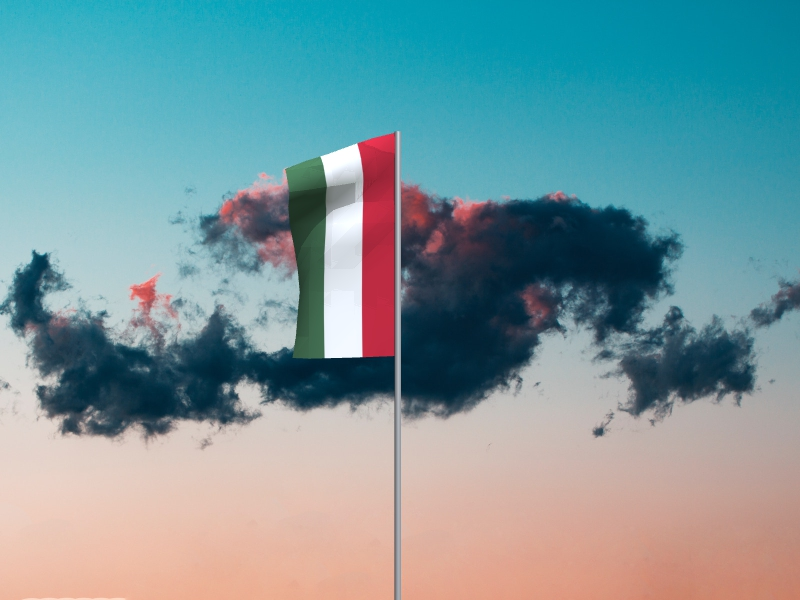hu: (285, 134, 395, 360)
